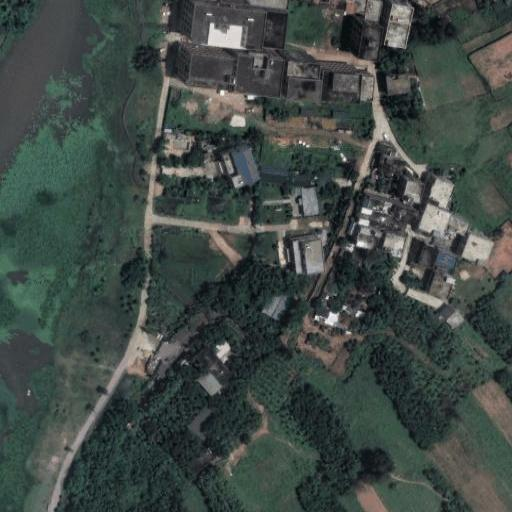building: (191, 5, 264, 50), (233, 53, 284, 97), (188, 54, 238, 91), (180, 398, 220, 438), (384, 5, 414, 50), (322, 72, 363, 104), (292, 238, 325, 275), (230, 146, 260, 185), (370, 142, 400, 178), (367, 199, 416, 220), (191, 365, 223, 397), (261, 293, 295, 323), (418, 205, 450, 236), (429, 266, 457, 301), (261, 12, 287, 49), (358, 24, 382, 62), (206, 330, 236, 360), (310, 297, 342, 324), (289, 76, 322, 102), (462, 235, 492, 263), (159, 127, 192, 151), (430, 179, 455, 210), (222, 153, 243, 188), (440, 304, 466, 330), (357, 226, 384, 251), (385, 72, 411, 97), (301, 186, 322, 216), (286, 61, 320, 79), (433, 249, 459, 270), (403, 181, 426, 204), (445, 216, 469, 236), (384, 233, 404, 256), (260, 167, 288, 183), (419, 245, 437, 268), (361, 76, 374, 102), (366, 0, 381, 22), (348, 0, 367, 14), (296, 174, 312, 184), (299, 108, 315, 115), (335, 111, 349, 118), (312, 0, 330, 3)
